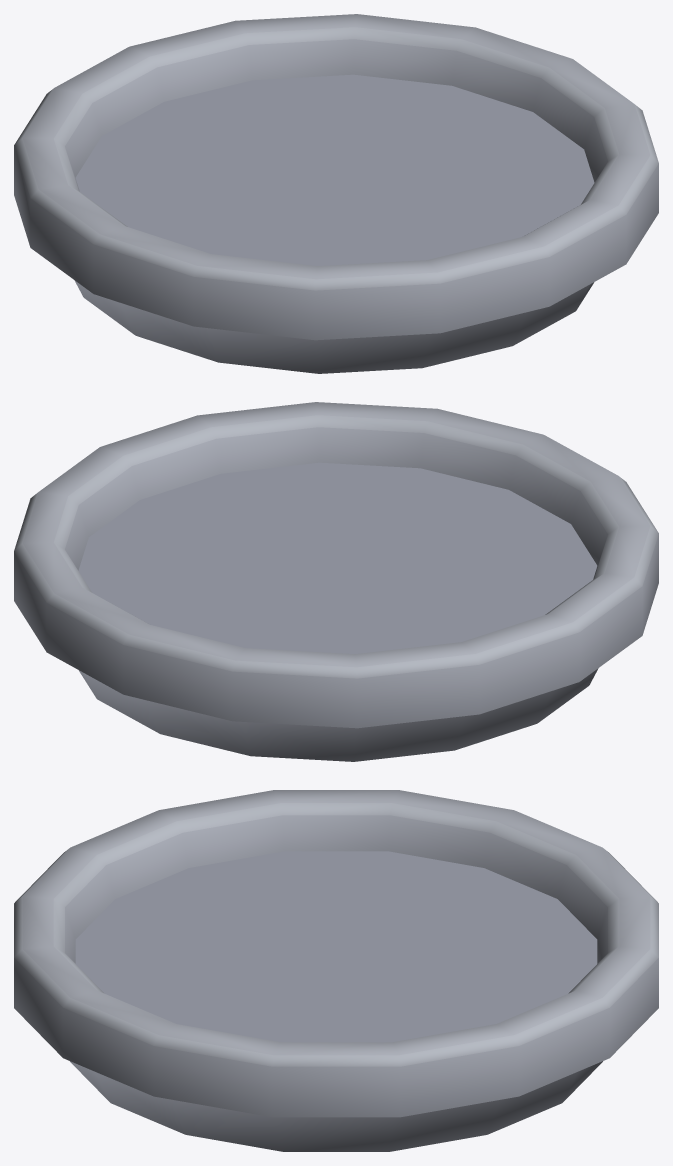
The model's file is Large Saucer-l9wd4GfTSi.glb.
3 renders of one model, top to bottom at view 1: azimuth 30°, elevation 25°; view 2: azimuth 150°, elevation 25°; view 3: azimuth 270°, elevation 25°, orthographic.
Parts seen in each view (by area): view 1: saucer_B_large; view 2: saucer_B_large; view 3: saucer_B_large.
Boxes of the visible parts, x1,y1,x2,y2 form: saucer_B_large: [14, 14, 658, 373]; saucer_B_large: [14, 402, 658, 761]; saucer_B_large: [14, 790, 658, 1151].
Size of the model in its own units: 1.5 by 0.2994 by 1.5.
Materials: 1 (1 with a texture image).
